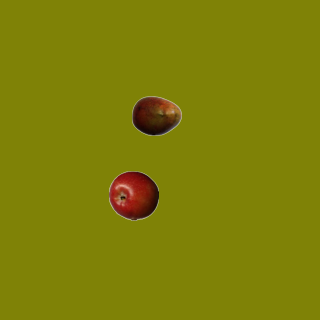Apple Braeburn: (108, 170, 158, 220)
Mango Red: (131, 90, 181, 140)
